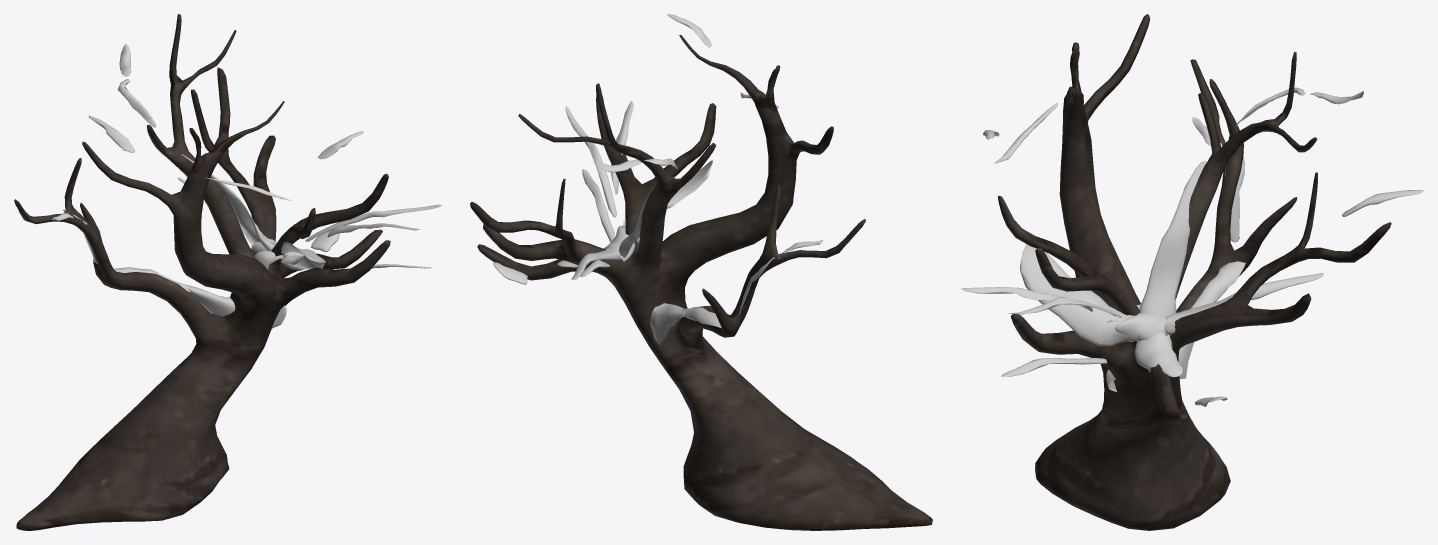
Rendered from treesnoo.fbx.
The picture shows the model from 3 angles, left to right: view 1: azimuth 30°, elevation 25°; view 2: azimuth 150°, elevation 25°; view 3: azimuth 270°, elevation 25°; orthographic projection. The views are drawn at different scales.
Parts seen in each view (by area): view 1: tree, Object012; view 2: tree, Object012; view 3: tree, Object012.
Part boxes in pixels (<box>): tree: <box>14,14,390,530</box>; Object012: <box>52,44,441,328</box>; tree: <box>470,35,932,530</box>; Object012: <box>493,14,823,344</box>; tree: <box>998,14,1391,530</box>; Object012: <box>961,87,1423,407</box>.
Bounding box in the file's own units: 26.29 × 26.07 × 21.81.
